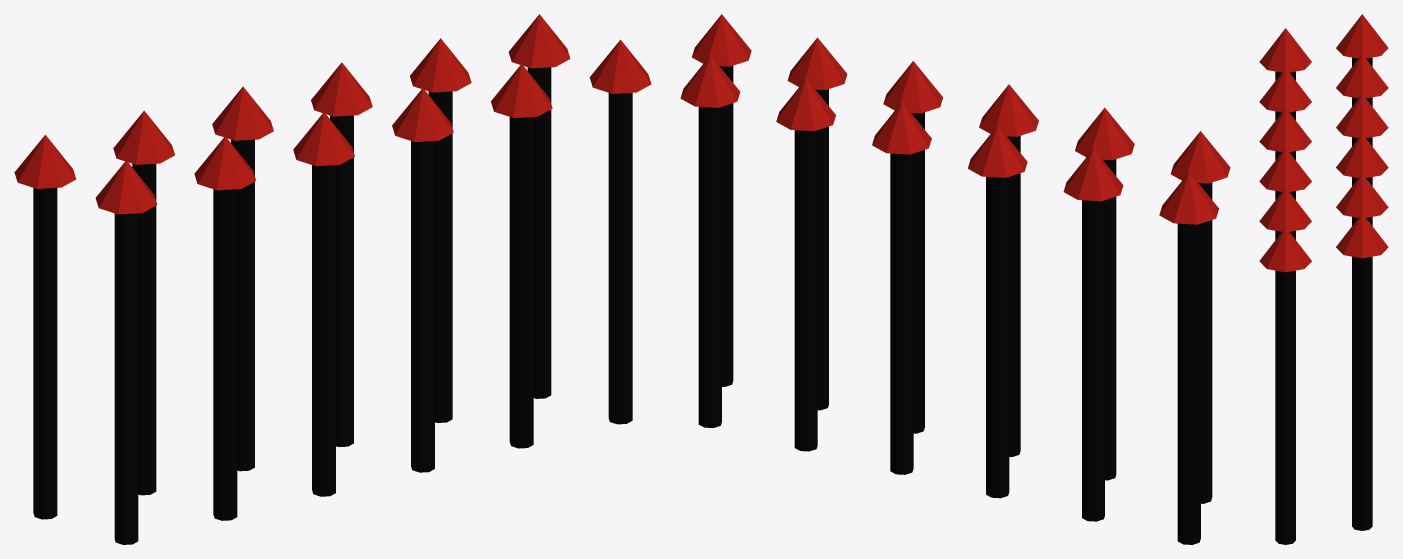
File: spikes.fbx
3 renders of one model, left to right at view 1: azimuth 30°, elevation 25°; view 2: azimuth 150°, elevation 25°; view 3: azimuth 270°, elevation 25°, orthographic. The views are drawn at different scales.
Visible parts, largest first — view 1: Cone.001, Cone.004, Cone.012, Cone.002, Cone.010, Cone.008, Cone.006, Cone.003, Cone.011, Cone.009, Cone.005, Cone.007; view 2: Cone.007, Cone.011, Cone.009, Cone.001, Cone.005, Cone.003, Cone.002, Cone.004, Cone.012, Cone.006, Cone.008, Cone.010; view 3: Cone.011, Cone.012, Cone.003, Cone.001, Cone.004, Cone.008, Cone.009, Cone.002, Cone.007, Cone.010, Cone.005, Cone.006.
Part boxes in pixels (x1,y1,x2,y2): Cone.001: (14,135,76,519); Cone.004: (194,136,255,520); Cone.012: (589,39,651,424); Cone.002: (95,160,157,544); Cone.010: (491,64,552,448); Cone.008: (392,88,453,472); Cone.006: (293,112,354,496); Cone.003: (113,110,174,495); Cone.011: (508,14,570,398); Cone.009: (410,38,471,422); Cone.005: (212,86,273,471); Cone.007: (311,62,372,446); Cone.007: (872,102,931,474); Cone.011: (680,55,740,427); Cone.009: (776,78,835,451); Cone.001: (1159,172,1218,544); Cone.005: (968,125,1027,498); Cone.003: (1063,149,1123,521); Cone.002: (1171,131,1230,503); Cone.004: (1075,107,1134,480); Cone.012: (692,14,751,386); Cone.006: (979,84,1038,456); Cone.008: (883,61,942,433); Cone.010: (787,37,847,410); Cone.011: (1336,213,1388,530); Cone.012: (1259,227,1311,544); Cone.003: (1336,54,1388,106); Cone.001: (1336,14,1388,66); Cone.004: (1259,68,1311,120); Cone.008: (1259,147,1311,199); Cone.009: (1336,173,1388,225); Cone.002: (1259,28,1311,80); Cone.007: (1336,133,1388,185); Cone.010: (1259,187,1311,239); Cone.005: (1336,94,1388,146); Cone.006: (1259,108,1311,160).
Size of the model in its own units: 2956 by 1837 by 687.
